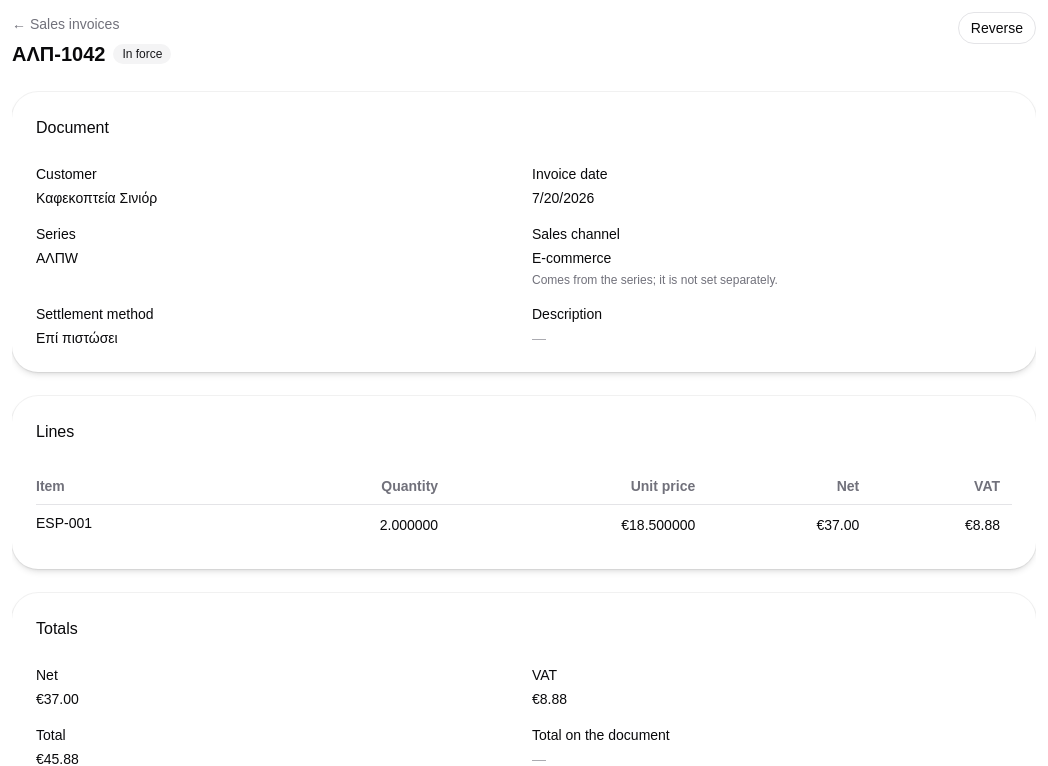
the sales invoice detail › will not send a reversal without a reason
Check: the heading "ΑΛΠ-1042 In force" is shown, box [12,40,171,68]
Click the button "Reverse" at coordinates (997, 28), box [958,12,1036,44]
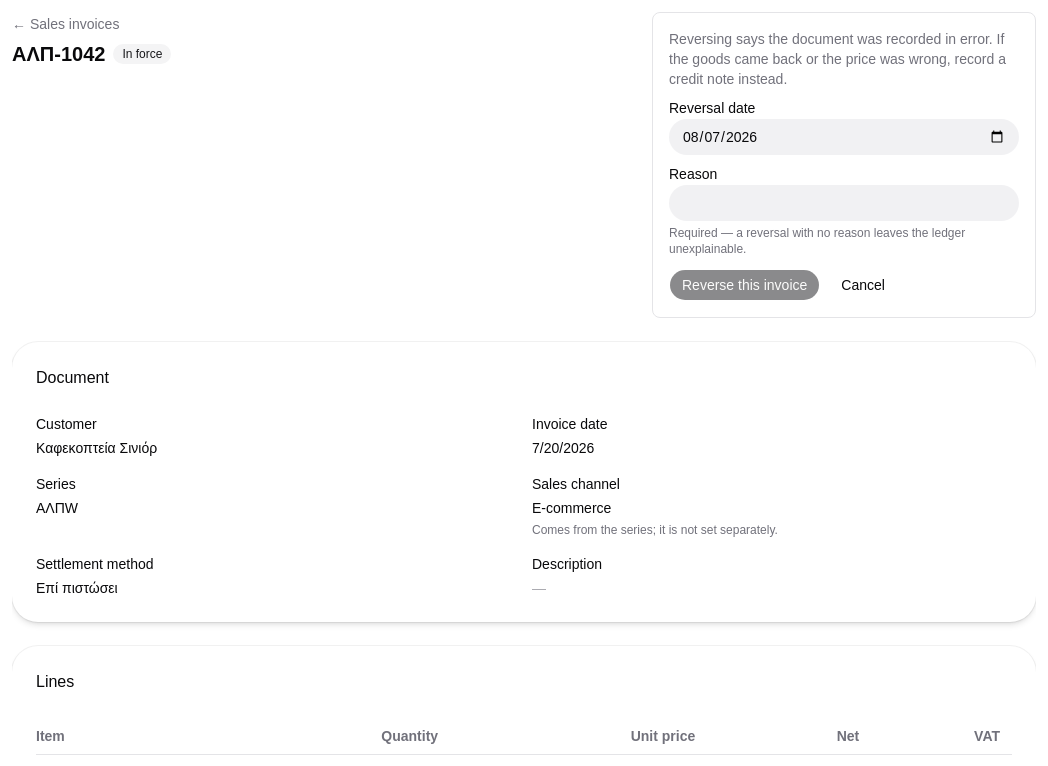
Check: the button "Reverse this invoice" is disabled, box [669,269,820,301]
